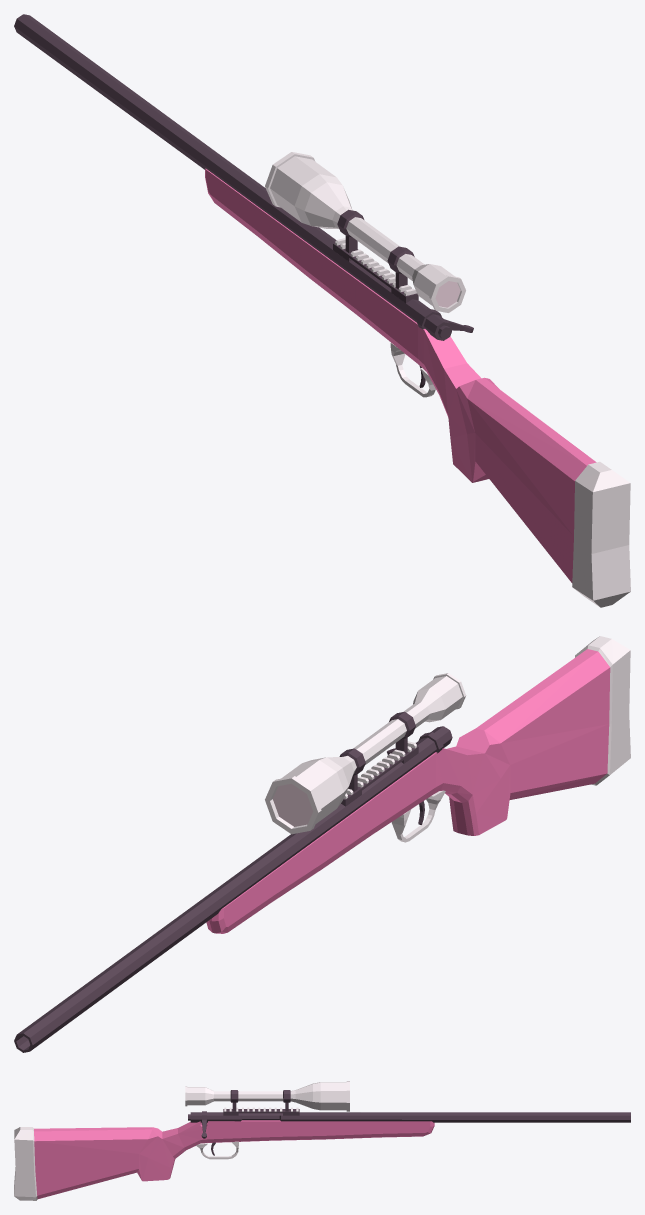
Rendered from SniperRifle_6.obj.
3 views of the same model, one above another, from view 1: azimuth 30°, elevation 25°; view 2: azimuth 150°, elevation 25°; view 3: azimuth 270°, elevation 25° (orthographic). The views are drawn at different scales.
Visible parts, largest first — view 1: Grip, Body, Hardware; view 2: Grip, Hardware, Body, Panel; view 3: Grip, Hardware, Body.
Part boxes in pixels (<box>): Grip: <box>205,168,596,582</box>; Body: <box>265,152,630,607</box>; Hardware: <box>14,14,473,387</box>; Grip: <box>206,649,610,933</box>; Hardware: <box>14,711,452,1052</box>; Body: <box>265,636,630,842</box>; Panel: <box>273,783,313,826</box>; Grip: <box>34,1120,434,1198</box>; Hardware: <box>188,1090,630,1155</box>; Body: <box>14,1081,349,1200</box>.
Bounding box in the file's own units: 0.4452 × 1.37 × 6.5.
